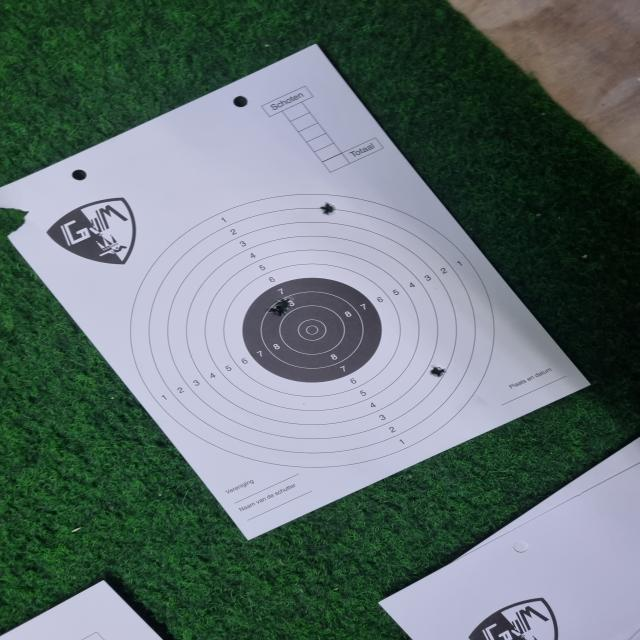2: (320, 202, 336, 215)
3: (429, 367, 447, 377)
8: (276, 298, 292, 308), (272, 307, 287, 316)
Target: (130, 193, 496, 468)
black_contour: (243, 277, 383, 384)
